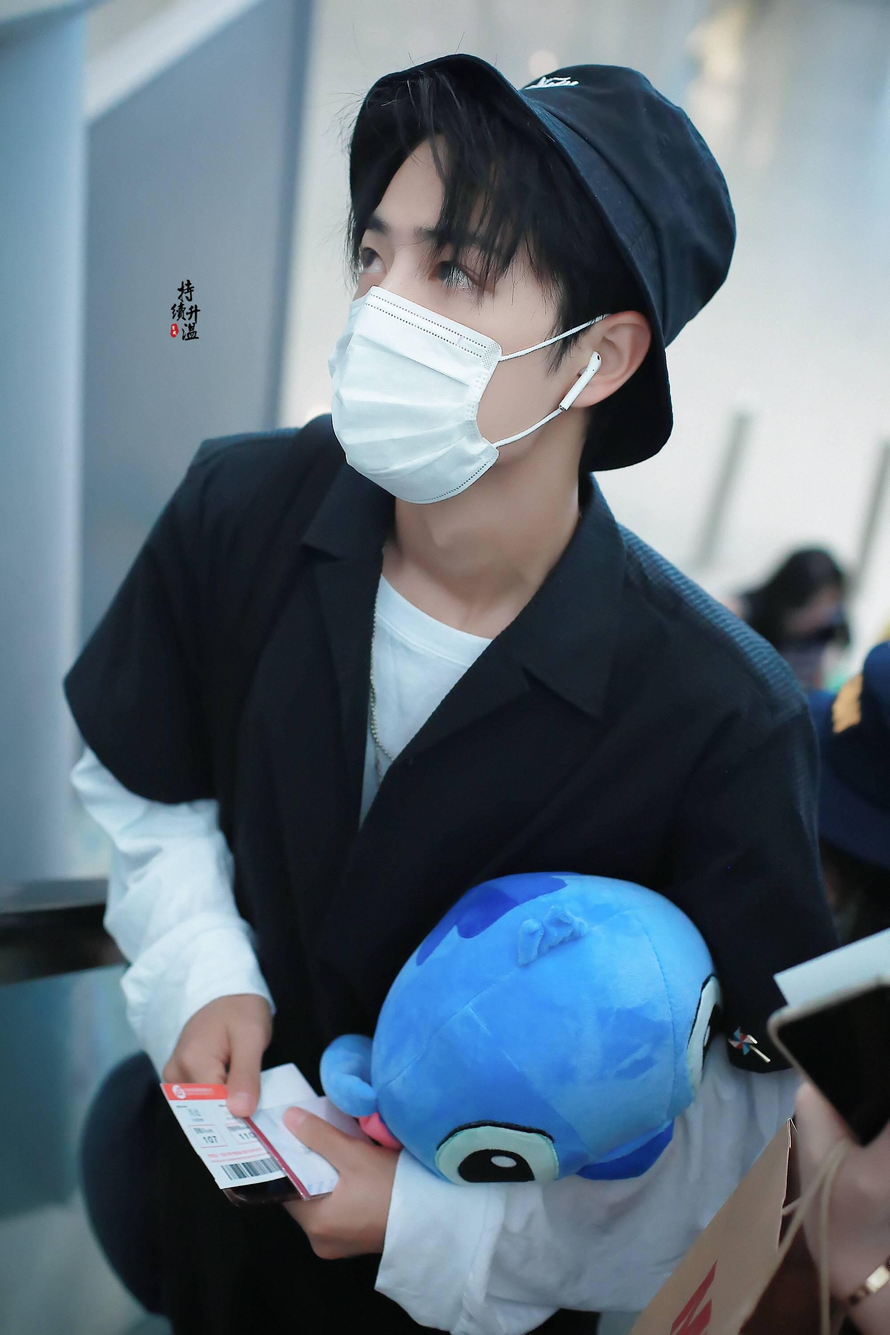OK: (335, 190, 542, 505)
